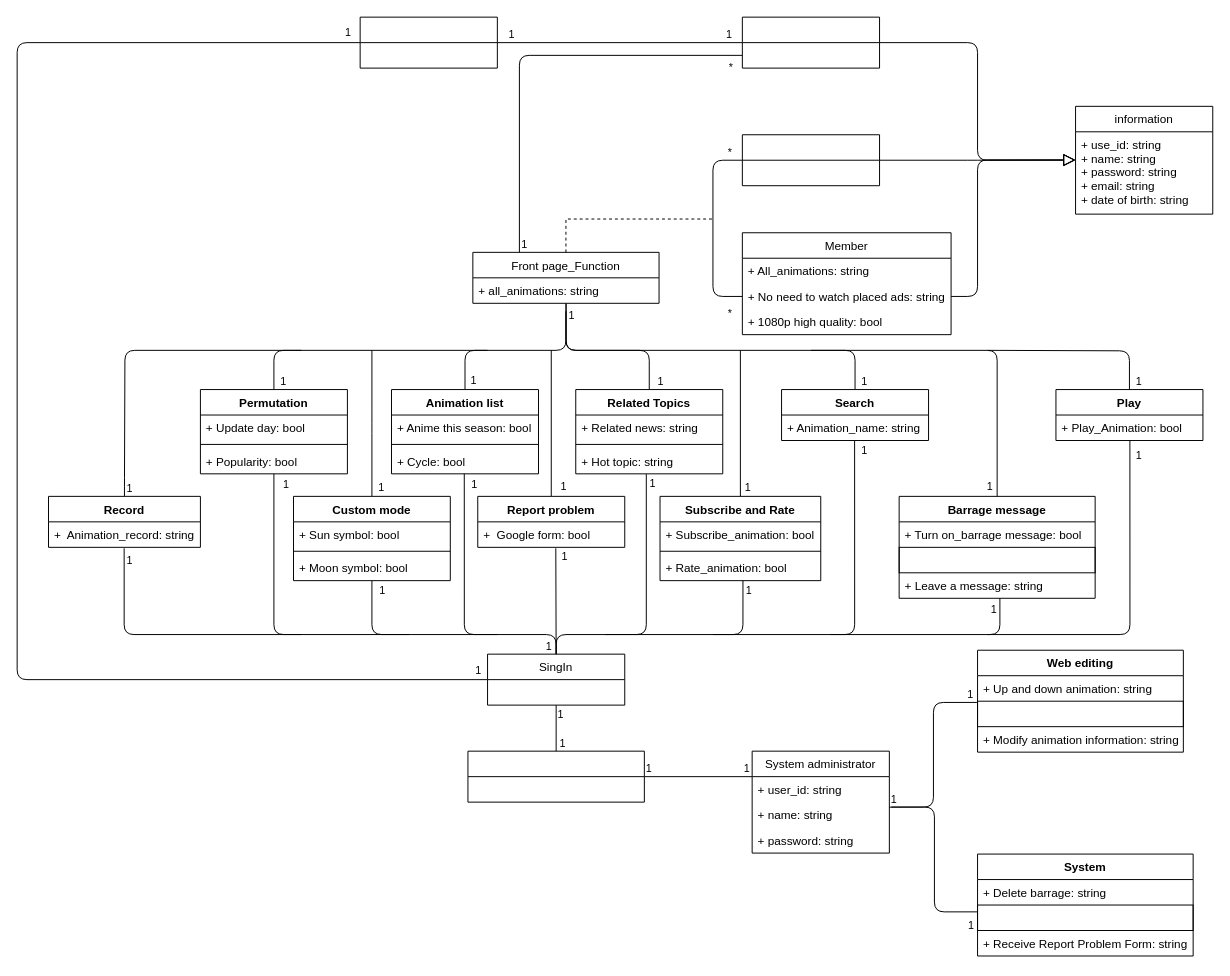
Image size: 1230x976. Some labels were removed from this diagram. Each missing label, with the centre of its shape:
"+ Edit web content: string" belongs at (x=1080, y=713).
"+ Suspended account: string" belongs at (x=1085, y=917).
"+ Turn off_barrage message: bool" belongs at (x=996, y=559).
"Browser" belongs at (x=810, y=42).
"SingUp" belongs at (x=428, y=42).
"System administratorSingIn" belongs at (x=555, y=776).
"Warrior" belongs at (x=810, y=160).
